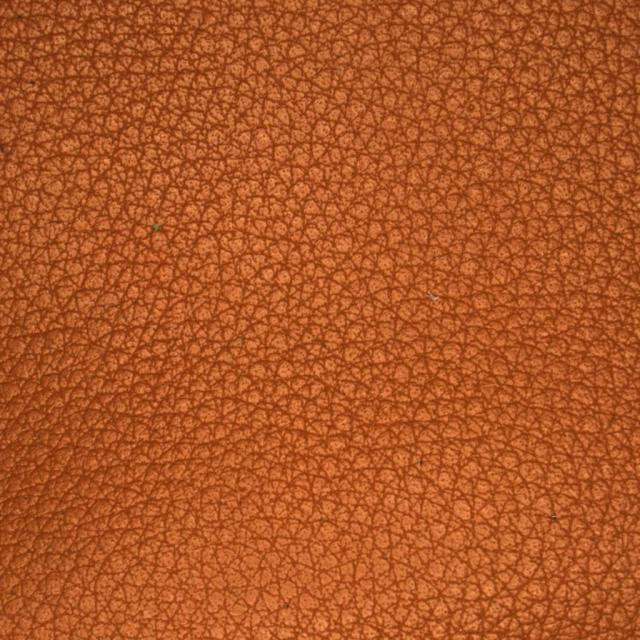Hole: (102, 129, 219, 323)
